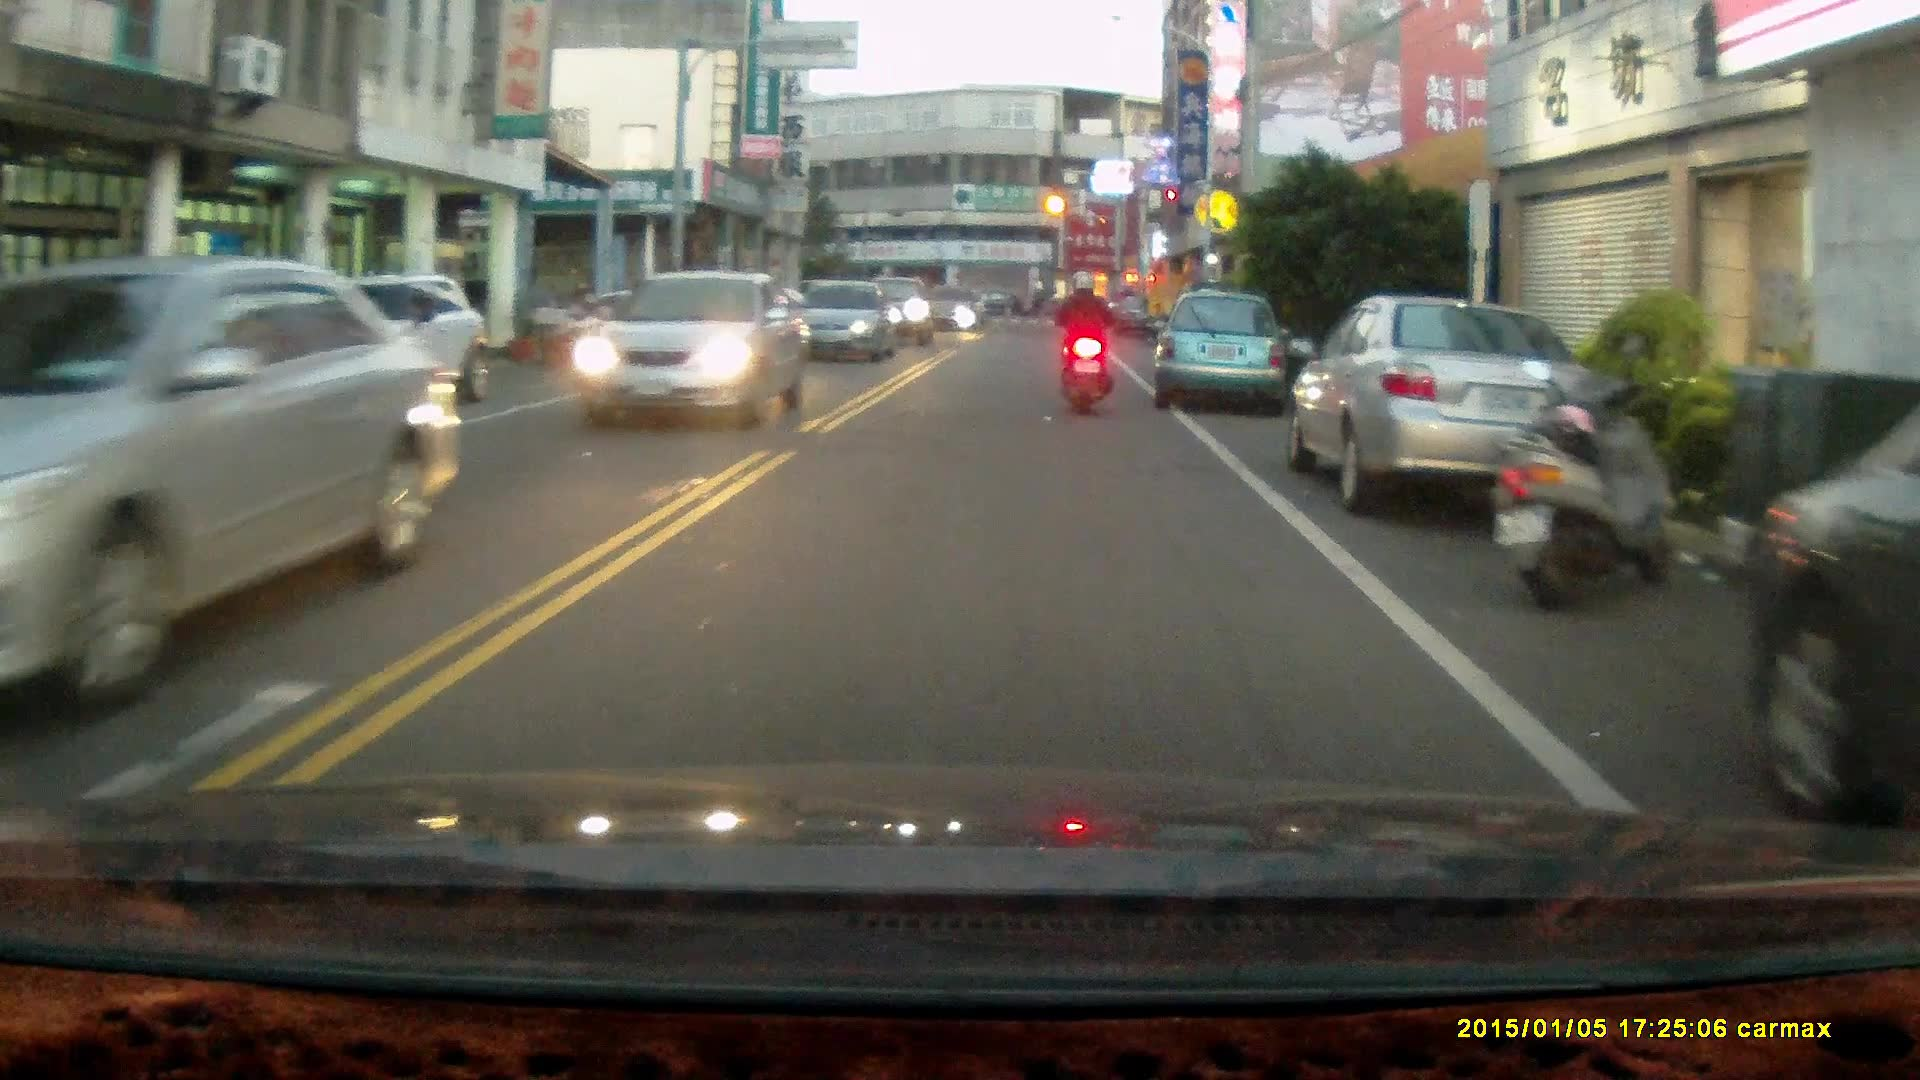rider: (1053, 268, 1115, 417)
vehicle: (3, 254, 454, 735), (1744, 413, 1920, 813), (1282, 294, 1602, 513), (231, 268, 489, 411), (575, 271, 812, 427), (1151, 289, 1293, 420), (788, 281, 902, 365)
